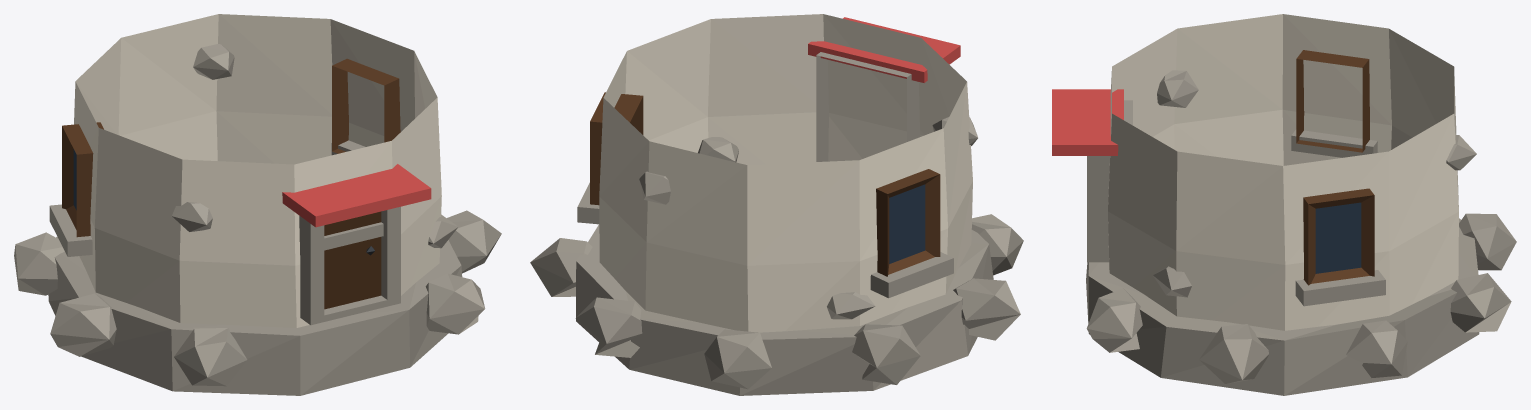
The model's file is roundtower_base.glb.
3 views of the same model, side by side, from view 1: azimuth 30°, elevation 25°; view 2: azimuth 150°, elevation 25°; view 3: azimuth 270°, elevation 25° (orthographic).
Visible parts, largest first — view 1: roundtower_base; view 2: roundtower_base; view 3: roundtower_base.
Boxes of the visible parts, left/top/right/bottom form: roundtower_base: left=14, top=14, right=501, bottom=395; roundtower_base: left=530, top=14, right=1023, bottom=395; roundtower_base: left=1052, top=14, right=1516, bottom=395.
Bounding box in the file's own units: 0.8472 × 0.4 × 0.7753.
